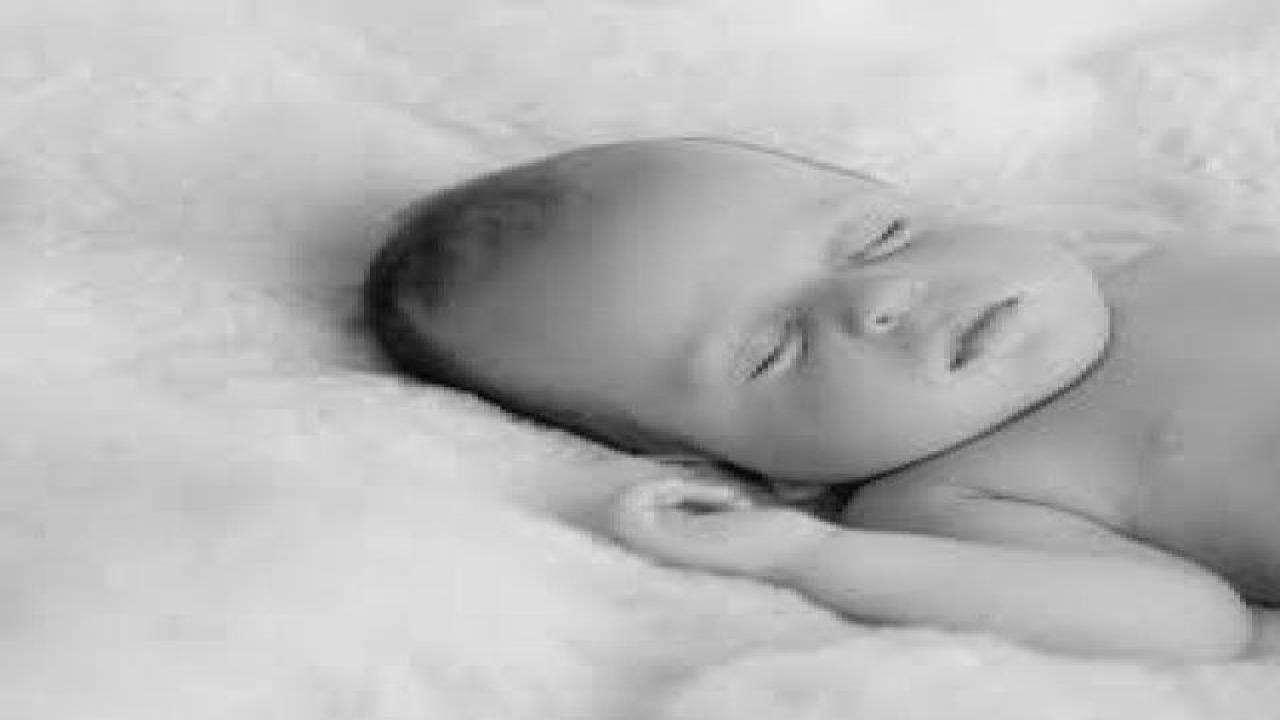hand: (604, 469, 824, 586)
